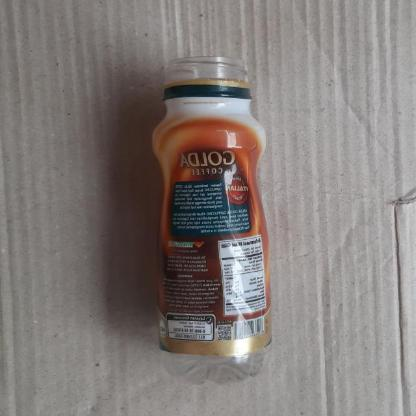Plastic Bottle: (150, 57, 274, 386)
